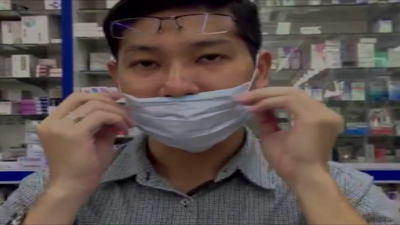mask_weared_incorrect: (113, 37, 255, 154)
